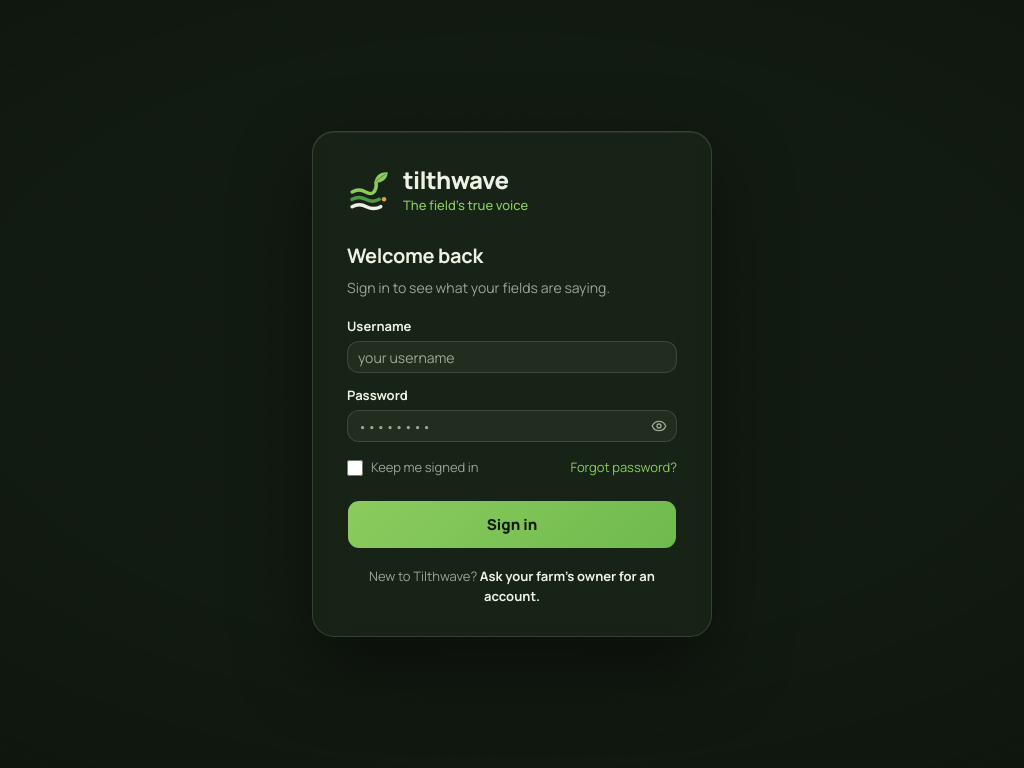
Test: LoginPage › does not submit empty fields
The image size is (1024, 768).
Step 1. Click the button "Sign in" → (512, 524), box [347, 500, 677, 549]
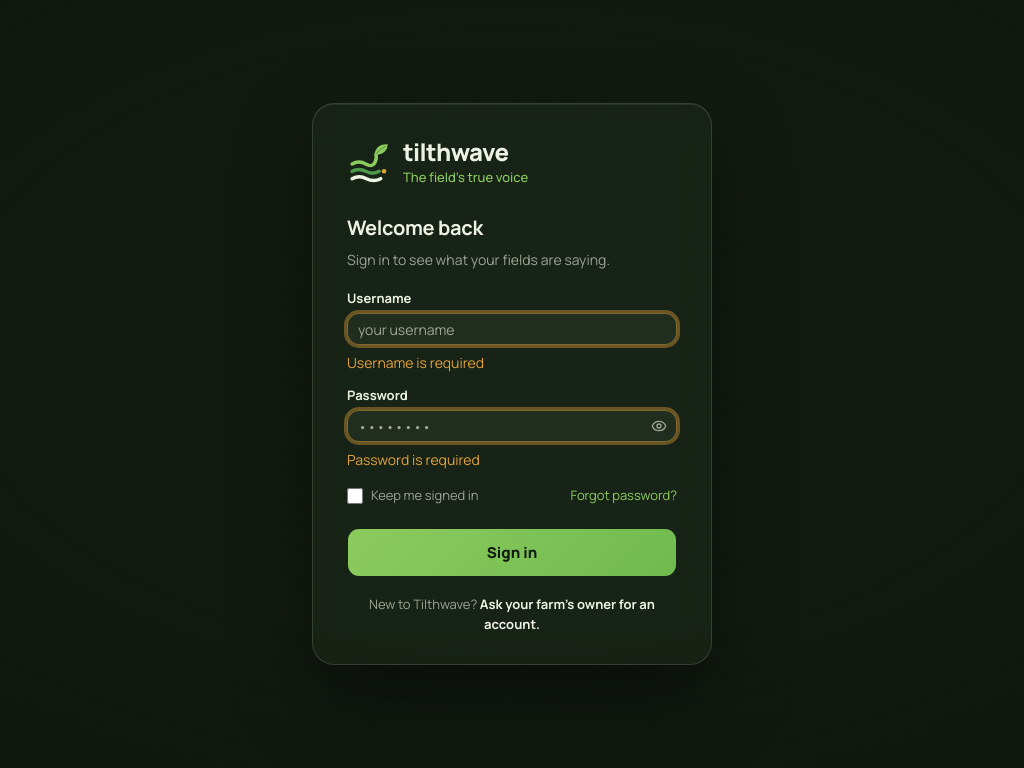
Now the text "Username is required" is shown, box [347, 353, 484, 372]
